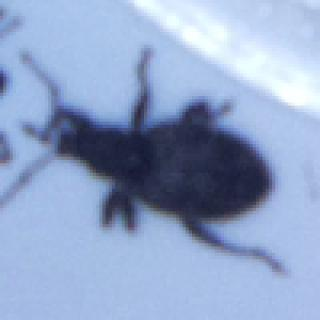bvw: (1, 45, 292, 281)
